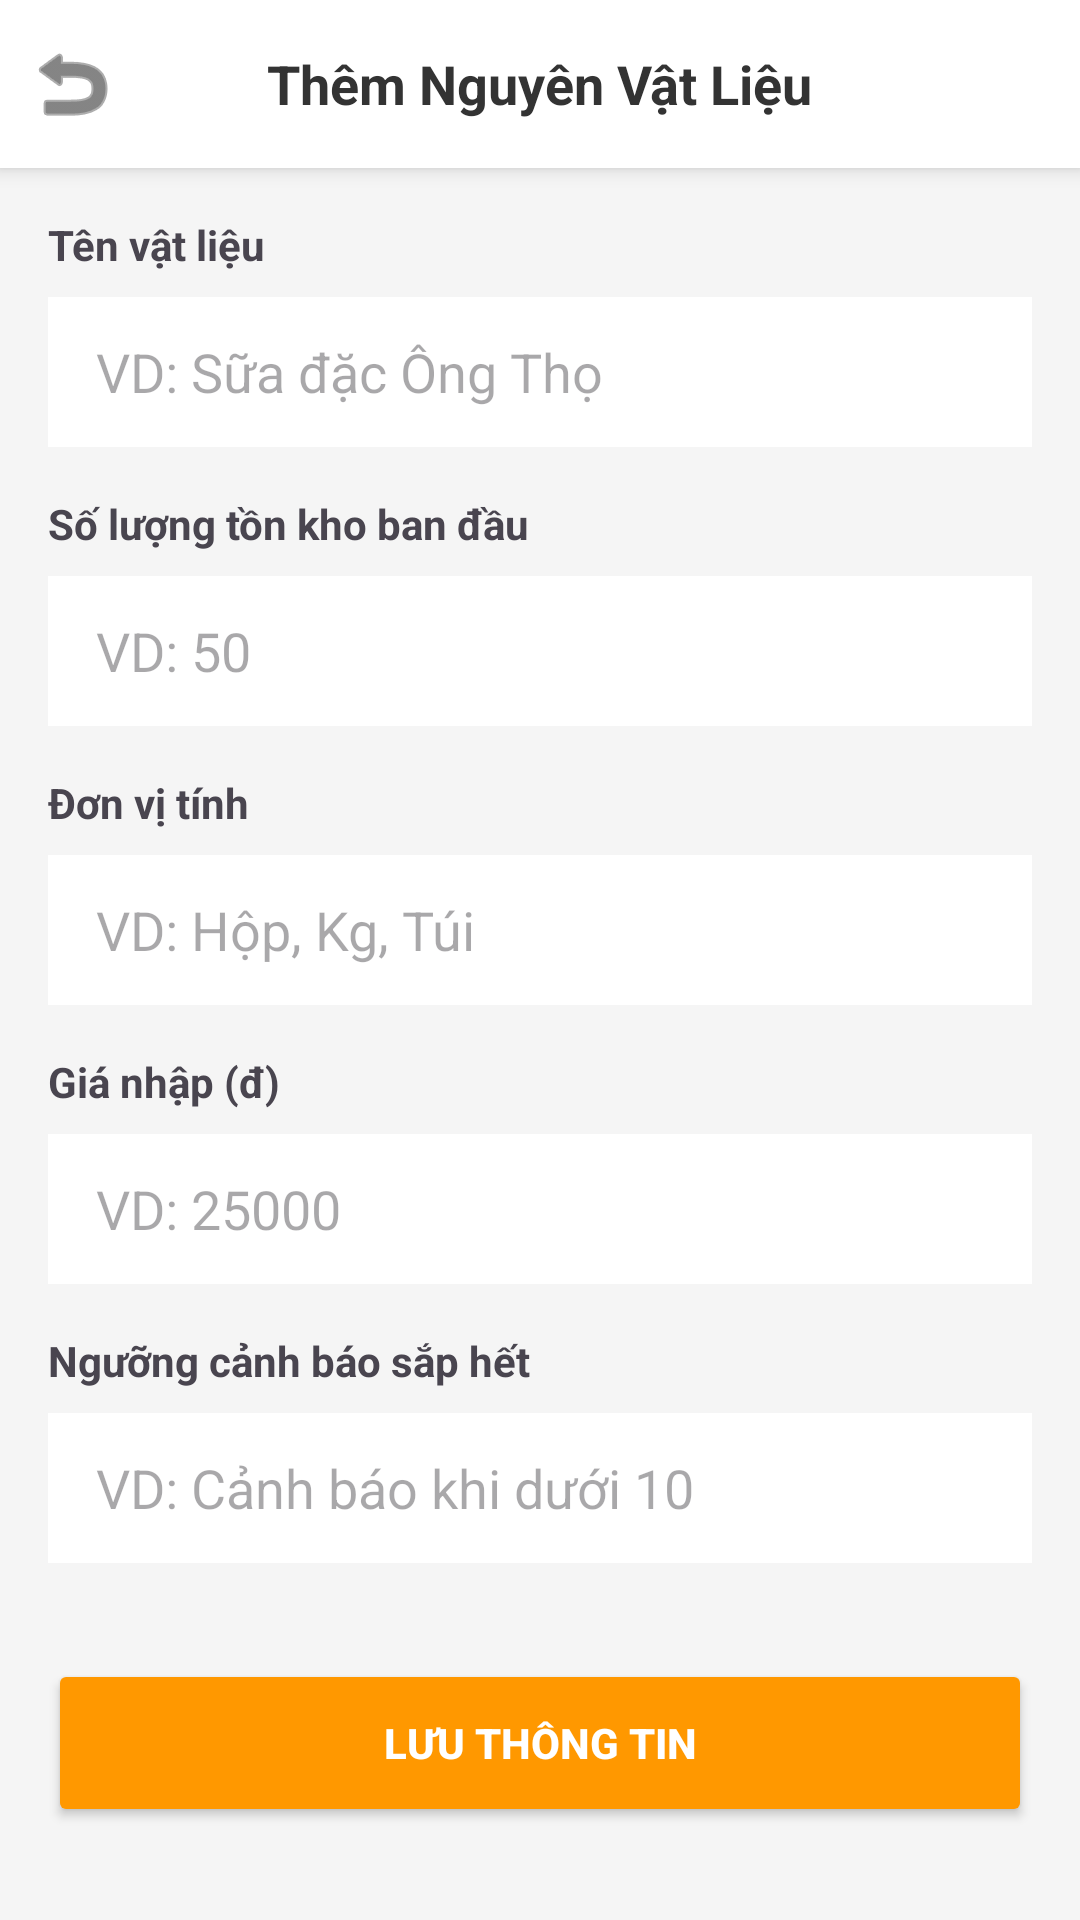

Screen size 1080*1920. Icon name, then its box in pixels as (x1, y1, x2, y2):
revert: (39, 53, 108, 116)
